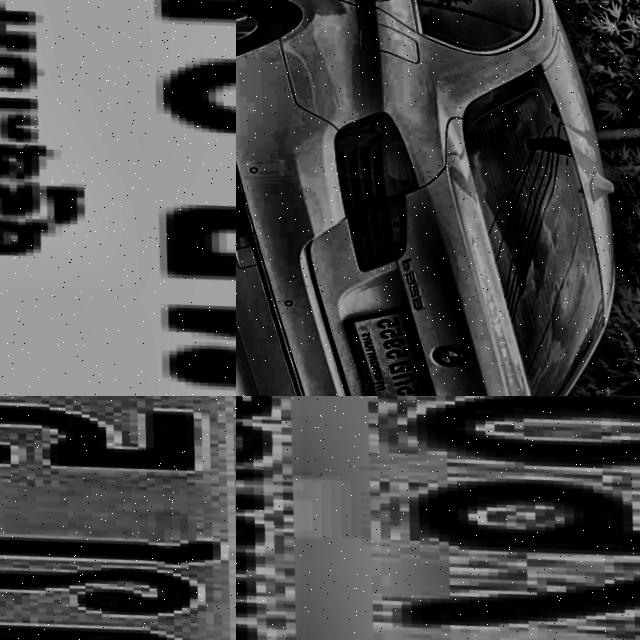license-plate: (236, 396, 640, 640), (0, 0, 236, 396), (0, 396, 236, 640), (337, 294, 442, 396)
